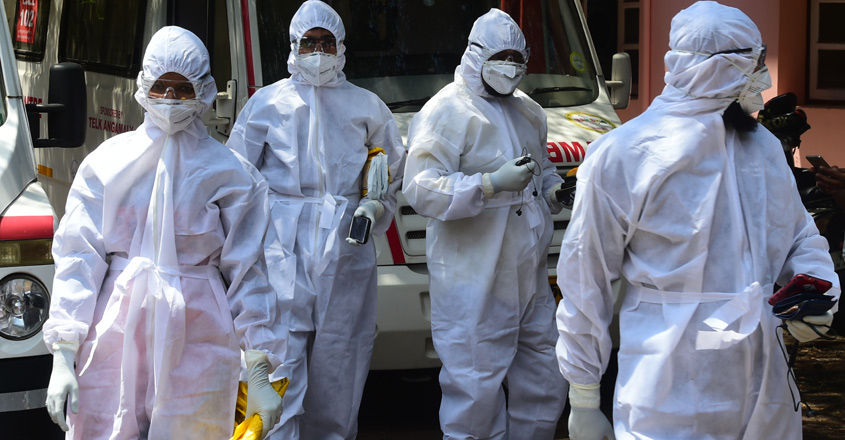Coverall: (557, 3, 838, 437), (50, 25, 290, 438), (229, 2, 406, 439), (400, 8, 565, 437)
Gloves: (245, 352, 283, 436), (47, 352, 79, 432), (566, 387, 613, 439), (479, 154, 540, 193), (346, 198, 382, 244), (786, 313, 833, 344)
Goggles: (145, 77, 205, 102), (296, 34, 344, 54), (487, 49, 527, 67), (749, 44, 772, 68)
with_mask: (143, 94, 199, 135), (297, 43, 342, 88), (730, 68, 773, 115), (481, 59, 528, 97)
